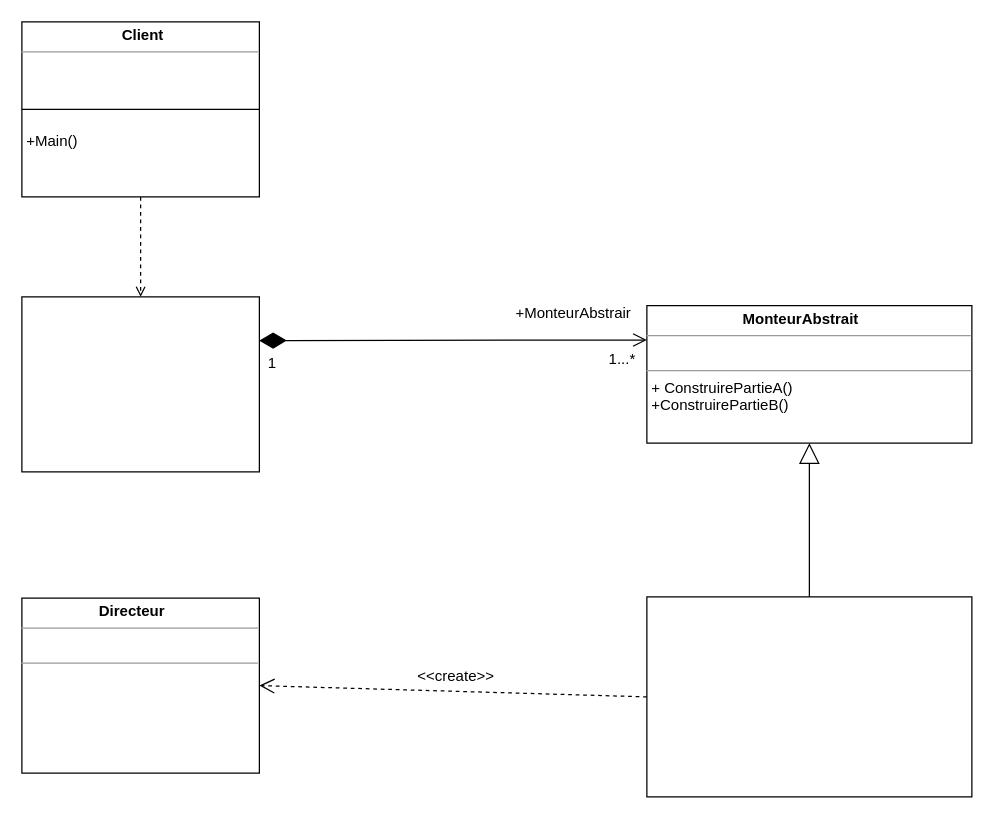
Some shapes in this 994 by 819 pixel diagram are drawn without their labels. The box of each missing label's shape, as (x1, y1, x2, y2) in pixels:
Directeur + construire(): (21, 296, 259, 472)
MonteurConcret + ConstruirePartieA() +ConstruirePartieB() +getProduit(): (646, 596, 972, 797)
